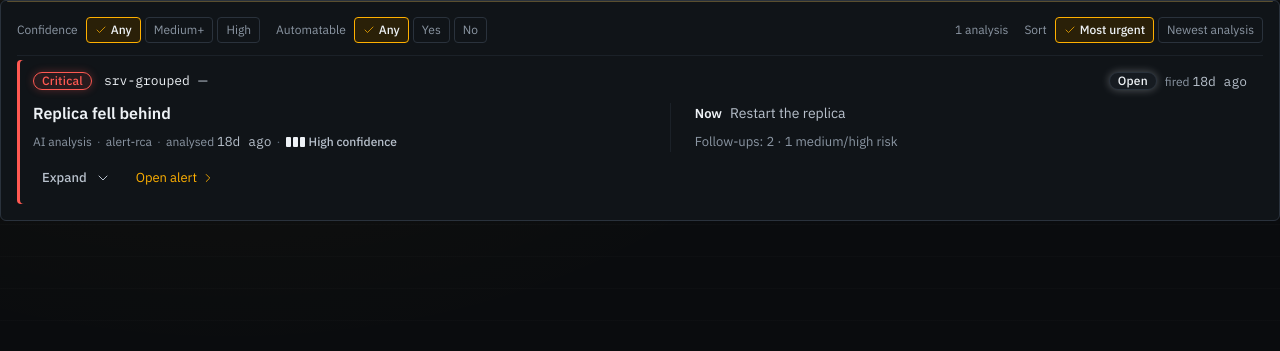
AnalysesView › a row › splits a grouped plan into what to run now and follow-ups
Expected: the text "Restart the replica" is shown, x1=730 y1=103 x2=846 y2=124
Expected: the text "Follow-ups: 2 · 1 medium/high risk" is shown, x1=695 y1=133 x2=898 y2=150
Click the button "Expand" at (76, 178), box x1=33 y1=164 x2=120 y2=192
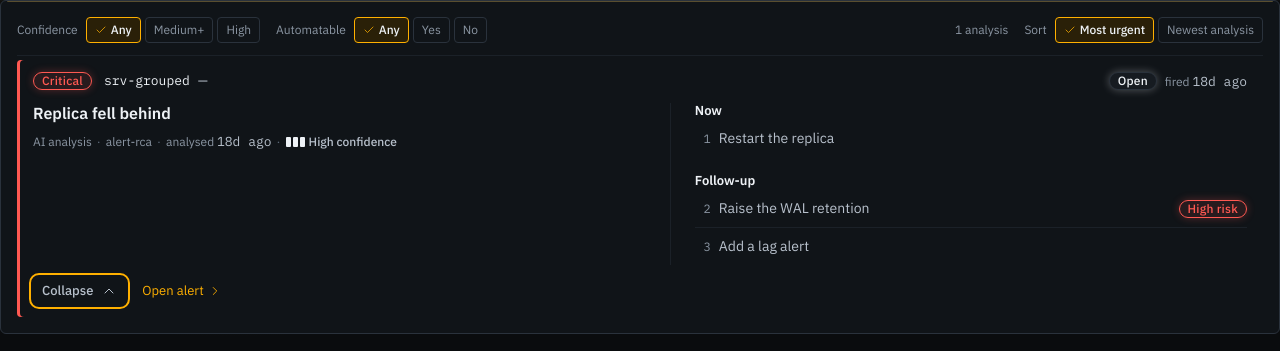
Expected: the heading "Now" is shown, x1=695 y1=102 x2=722 y2=119
Expected: the text "Raise the WAL retention" is shown, x1=719 y1=199 x2=869 y2=217
